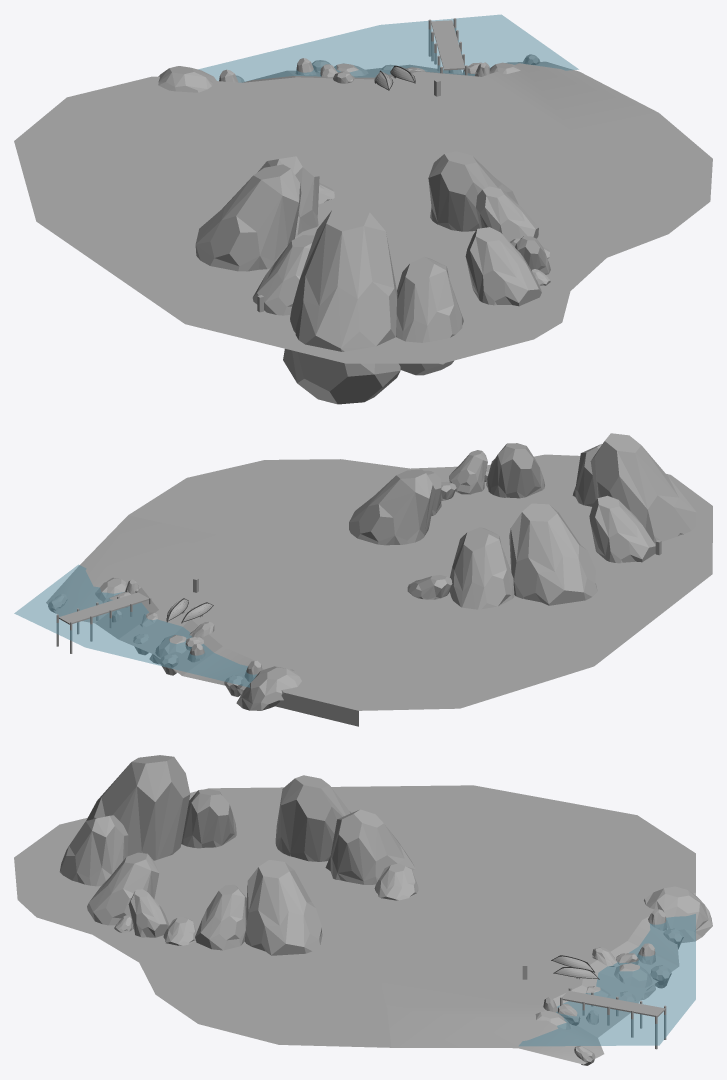
File: notverymany.fbx
3 renders of one model, top to bottom at view 1: azimuth 30°, elevation 25°; view 2: azimuth 150°, elevation 25°; view 3: azimuth 270°, elevation 25°, orthographic. The views are drawn at different scales.
Parts seen in each view (by area): view 1: group22; view 2: group22; view 3: group22.
Boxes of the visible parts, bbox=[...] form: group22: bbox=[14, 14, 712, 404]; group22: bbox=[14, 433, 712, 726]; group22: bbox=[14, 755, 712, 1065].
Size of the model in its own units: 6288 by 7076 by 1802.
